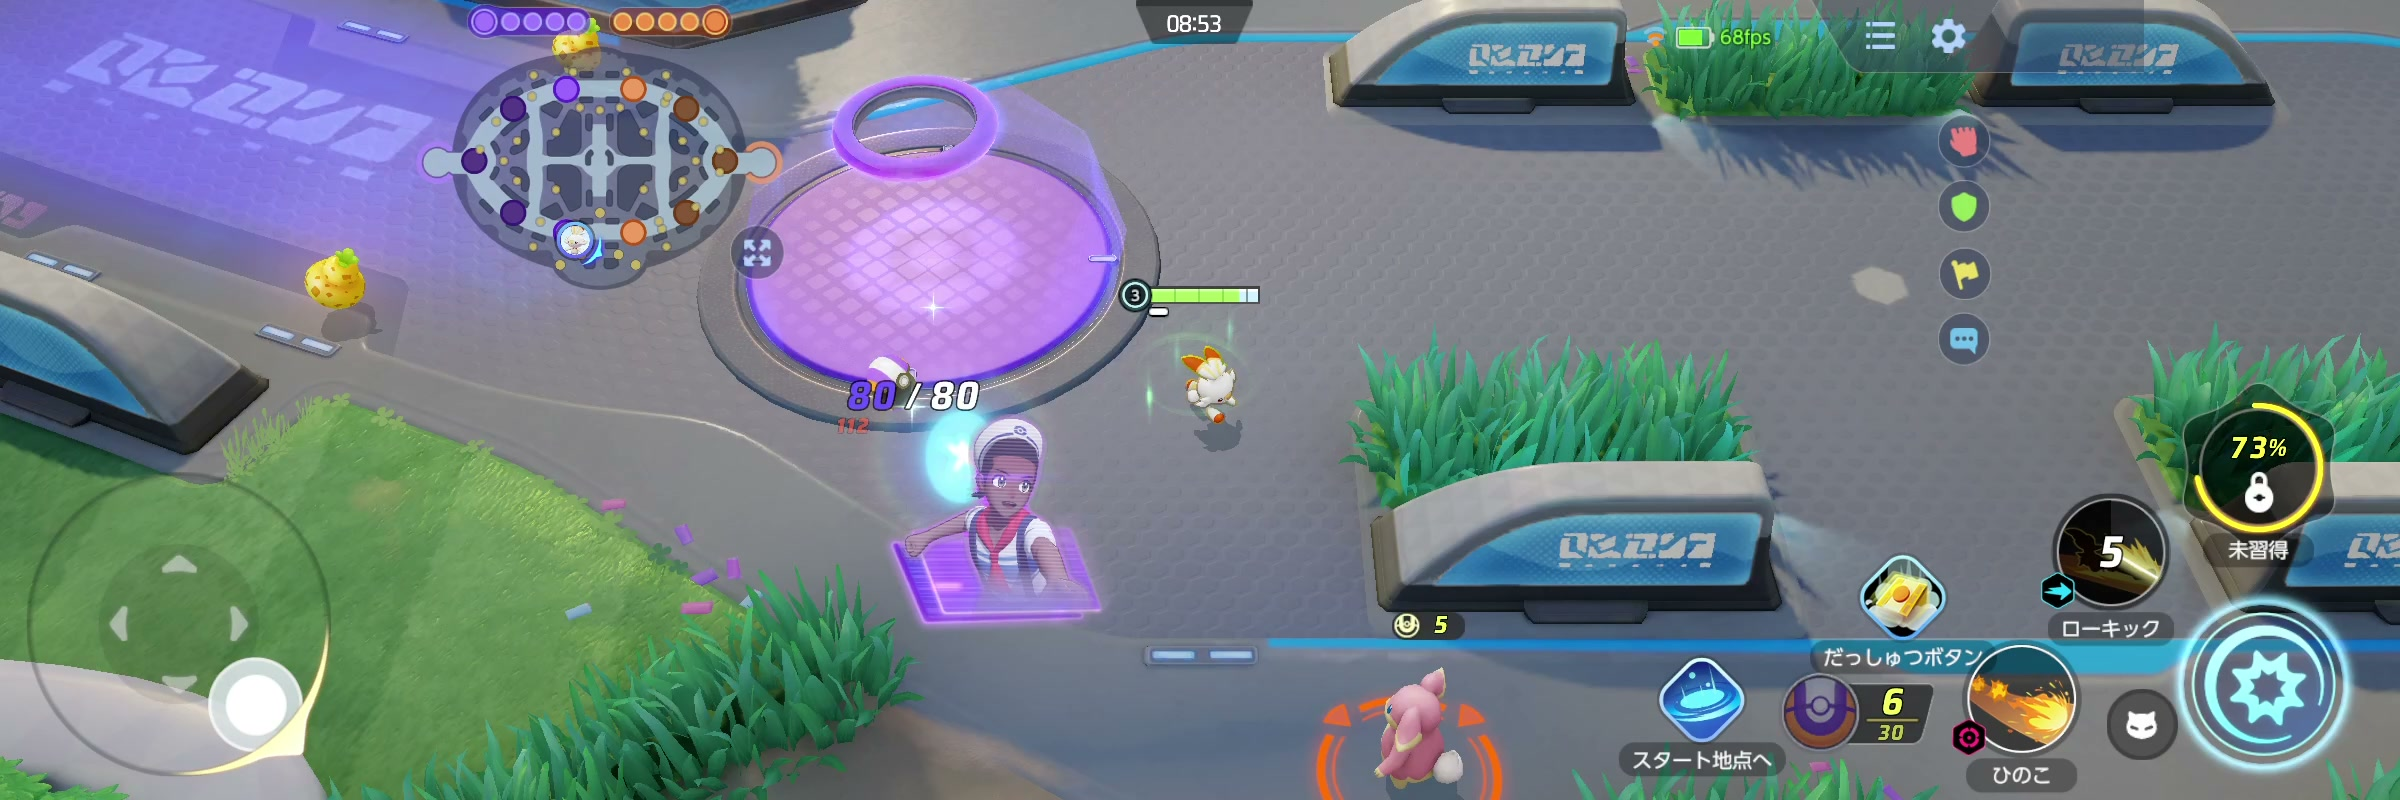cinderace: (1113, 321, 1270, 448)
